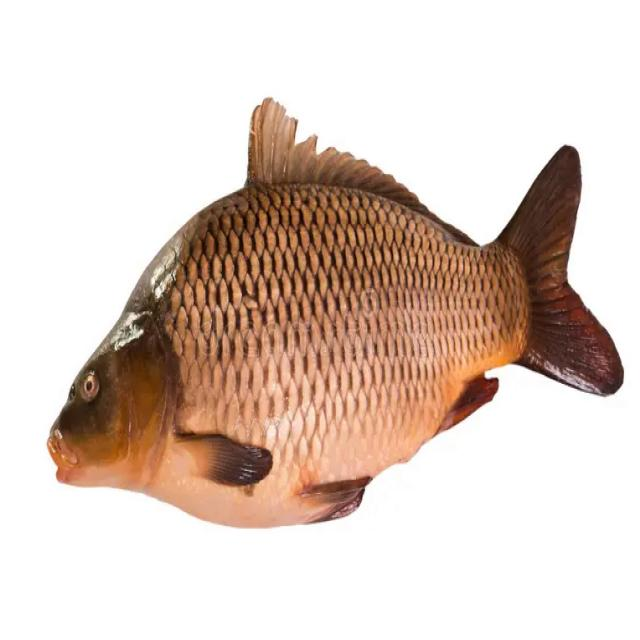Common carp: (47, 101, 623, 531)
